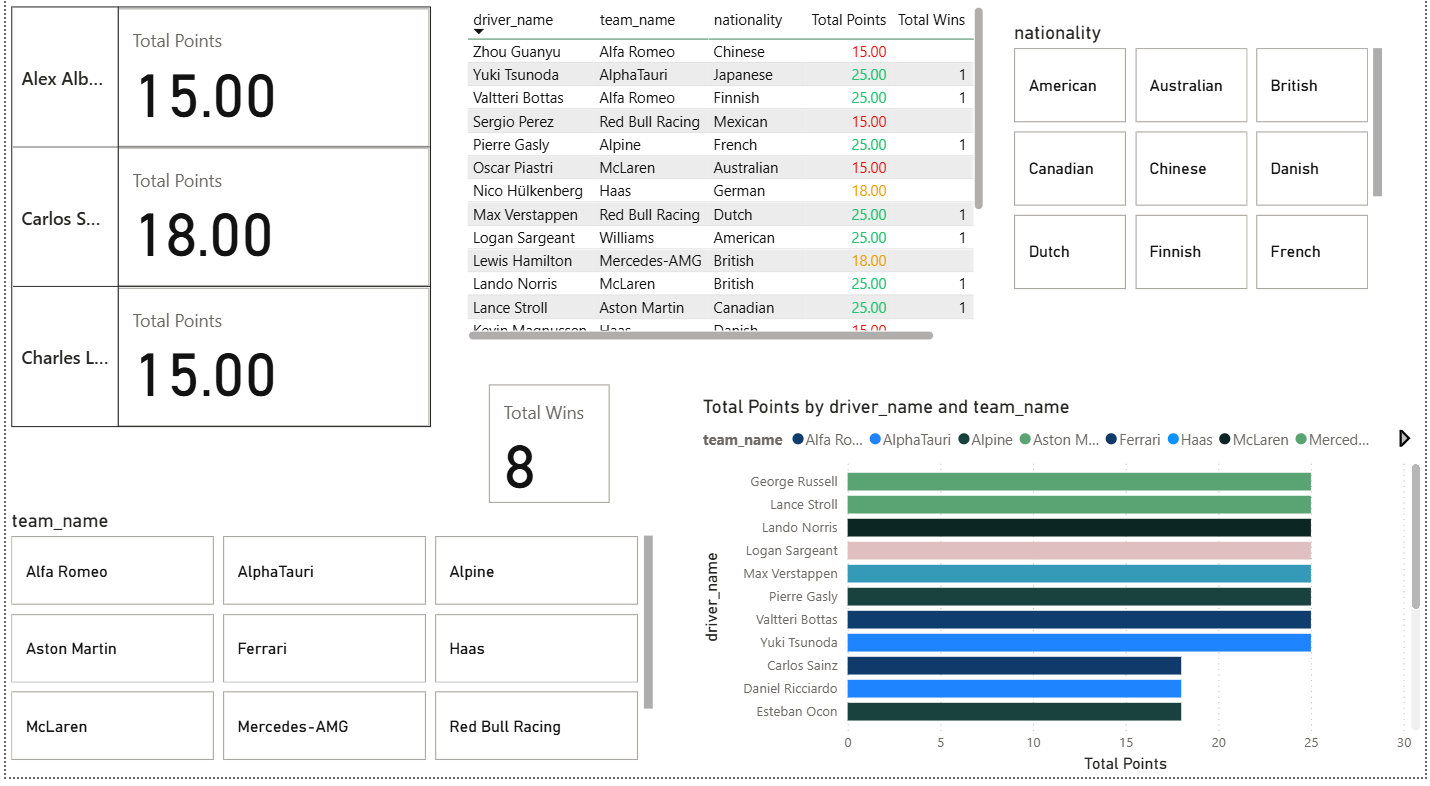

This screenshot's page, from the dashboard's own definition file:
{"tool":"powerbi","page":{"name":"Page 2","canvas":[1280,720],"ordinal":1},"visuals":[{"type":"cardVisual","fields":{"Data":["powerbi_db championship.Total Wins"]},"box":[444.7,360.6,119.7,116.9],"z":0},{"type":"cardVisual","fields":{"Rows":["powerbi_db driver.driver_name"],"Data":["powerbi_db championship.Total Points"]},"box":[21.4,38.5,389.1,429],"z":2000},{"type":"barChart","fields":{"Category":["powerbi_db driver.driver_name"],"Series":["powerbi_db team.team_name"],"Y":["powerbi_db championship.Total Points"]},"box":[622.9,374.9,657.1,344.9],"z":3000},{"type":"tableEx","fields":{"Values":["powerbi_db driver.driver_name","powerbi_db team.team_name","powerbi_db driver.nationality","powerbi_db championship.Total Points","powerbi_db championship.Total Wins","powerbi_db championship.year"]},"box":[410.5,20,476.1,310.7],"z":4000},{"type":"advancedSlicerVisual","fields":{"Values":["powerbi_db driver.nationality"]},"box":[903.7,38.5,342.1,248],"z":6000},{"type":"advancedSlicerVisual","fields":{"Values":["powerbi_db team.team_name"]},"box":[0,477.5,588.7,232.3],"z":7000}]}

Visuals, with their boxes in screenshot pixels (x1, y1, x2, y2), scaled from the page's 1280x720 canvas onto the 1430x786 screenshot:
cardVisual - powerbi_db championship.Total Wins: <region>497, 394, 631, 521</region>
cardVisual - powerbi_db driver.driver_name x powerbi_db championship.Total Points: <region>24, 42, 459, 510</region>
barChart - powerbi_db driver.driver_name x powerbi_db team.team_name: <region>696, 409, 1429, 785</region>
tableEx - powerbi_db driver.driver_name x powerbi_db team.team_name: <region>459, 22, 990, 361</region>
advancedSlicerVisual - powerbi_db driver.nationality: <region>1010, 42, 1392, 313</region>
advancedSlicerVisual - powerbi_db team.team_name: <region>0, 521, 658, 775</region>
